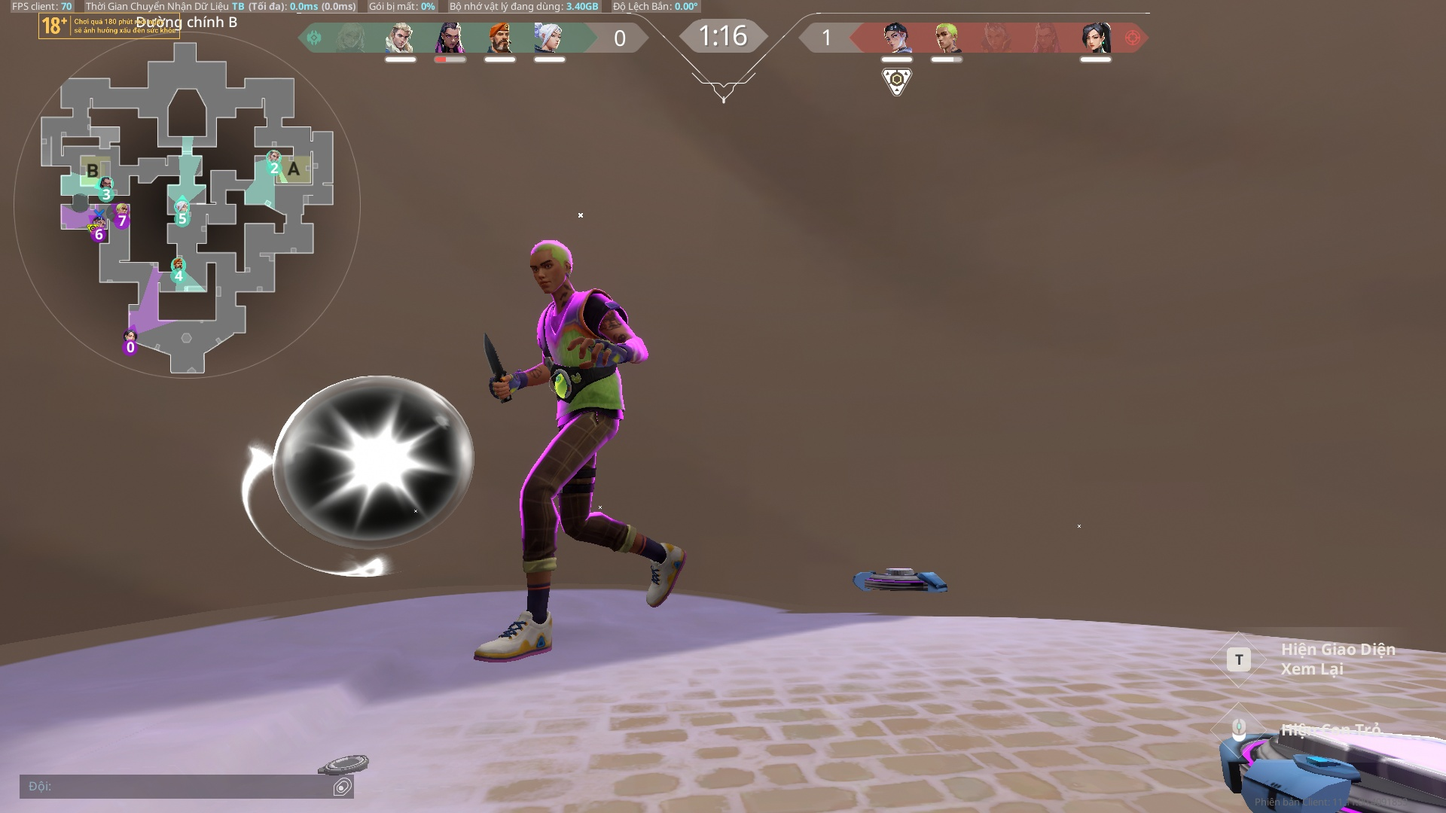body: (532, 297, 645, 400)
head: (524, 236, 574, 293)
